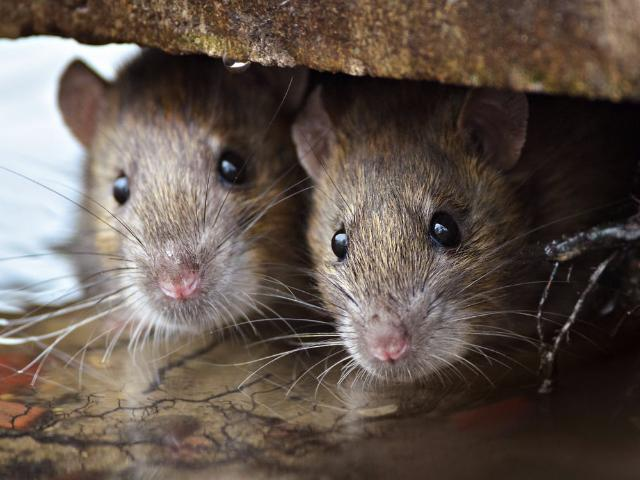rat: (3, 43, 319, 389), (277, 51, 553, 413)
